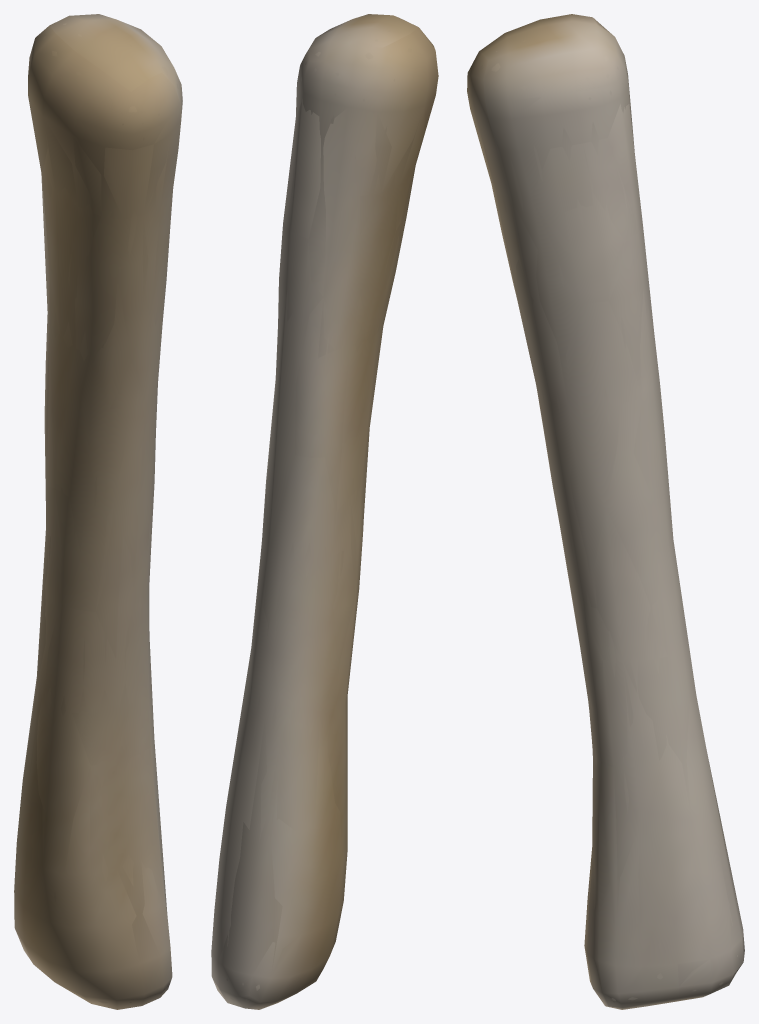
File: L metacarpi quintum.fbx
3 renders of one model, left to right at view 1: azimuth 30°, elevation 25°; view 2: azimuth 150°, elevation 25°; view 3: azimuth 270°, elevation 25°, orthographic. The views are drawn at different scales.
Visible parts, largest first — view 1: L metacarpi quintum, L metacarpi quintum low, L metacarpi quintum high; view 2: L metacarpi quintum low, L metacarpi quintum, L metacarpi quintum high; view 3: L metacarpi quintum, L metacarpi quintum low, L metacarpi quintum high.
Boxes of the visible parts, left/top/right/bottom form: L metacarpi quintum: left=14, top=14, right=182, bottom=1009; L metacarpi quintum low: left=14, top=16, right=182, bottom=1009; L metacarpi quintum high: left=29, top=17, right=178, bottom=1003; L metacarpi quintum low: left=213, top=16, right=434, bottom=1009; L metacarpi quintum: left=211, top=14, right=438, bottom=1009; L metacarpi quintum high: left=216, top=17, right=423, bottom=1001; L metacarpi quintum: left=467, top=14, right=744, bottom=1009; L metacarpi quintum low: left=470, top=14, right=744, bottom=1006; L metacarpi quintum high: left=469, top=19, right=743, bottom=1007.
Size of the model in its own units: 0.9898 by 5.96 by 1.58.
